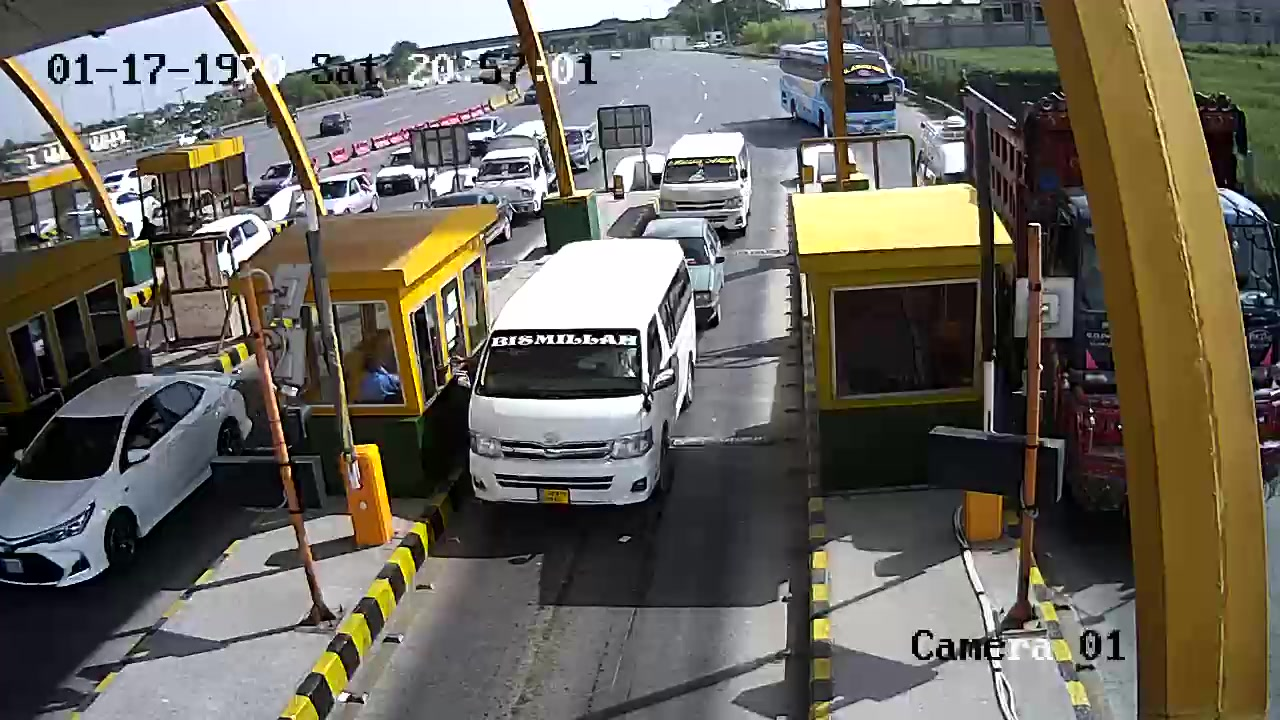F2: (459, 236, 702, 526)
